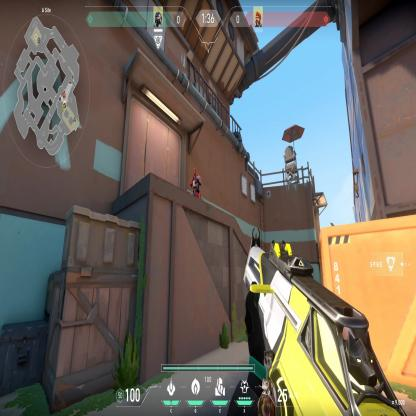enemy: (189, 166, 202, 200)
